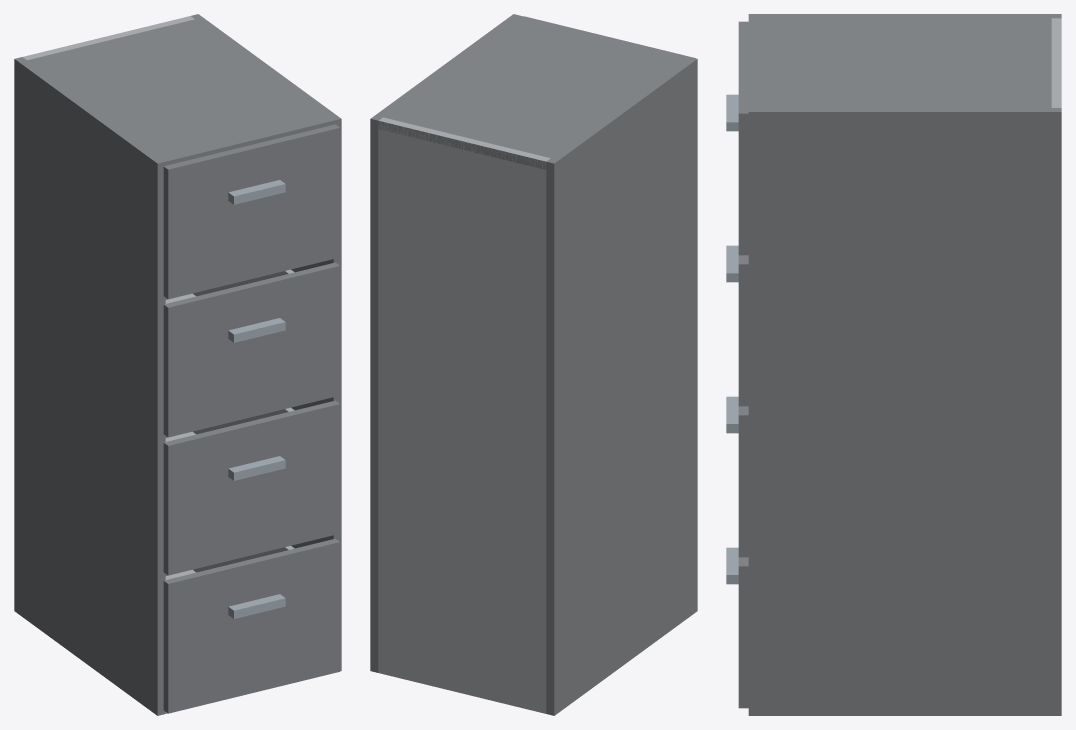
File: GO_FilingCabinet_01.glb
The picture shows the model from 3 angles, left to right: view 1: azimuth 30°, elevation 25°; view 2: azimuth 150°, elevation 25°; view 3: azimuth 270°, elevation 25°; orthographic projection. The views are drawn at different scales.
Parts seen in each view (by area): view 1: GO_FilingCabinet_01, Drawer2, Drawer3, Drawer1, Drawer4; view 2: GO_FilingCabinet_01; view 3: GO_FilingCabinet_01, Drawer4, Drawer1, Drawer2, Drawer3.
Boxes of the visible parts, x1,y1,x2,y2 form: GO_FilingCabinet_01: (14,14,341,715); Drawer2: (163,400,339,575); Drawer3: (163,262,339,437); Drawer1: (163,538,339,713); Drawer4: (163,124,339,299); GO_FilingCabinet_01: (370,14,697,715); GO_FilingCabinet_01: (748,14,1061,715); Drawer4: (726,21,748,255); Drawer1: (726,547,748,708); Drawer2: (726,396,748,557); Drawer3: (726,245,748,406).
Size of the model in its own units: 0.46 by 1.32 by 0.6645.
1 material, 1 textured.
